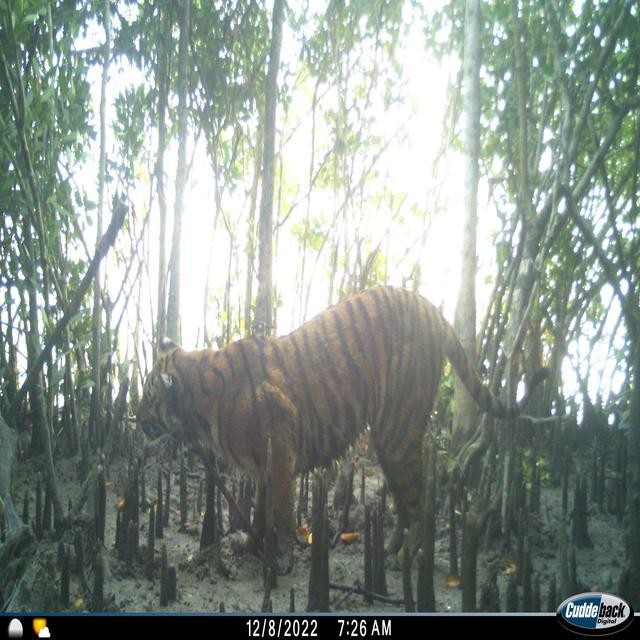tiger: (134, 283, 570, 590)
